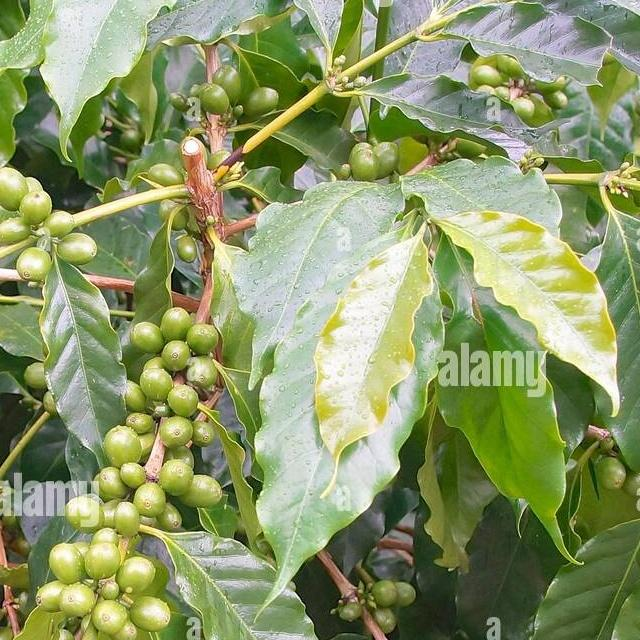xanh: (97, 420, 142, 467), (42, 543, 94, 579), (207, 56, 245, 104), (57, 231, 104, 269), (58, 578, 96, 620), (144, 158, 188, 194), (135, 594, 172, 633), (244, 80, 280, 120), (163, 385, 203, 420), (364, 572, 402, 607), (156, 409, 194, 444), (20, 182, 50, 226), (161, 304, 193, 345), (132, 369, 173, 400), (192, 316, 222, 357), (161, 340, 196, 375), (189, 476, 225, 510), (21, 250, 55, 286), (130, 323, 166, 356), (2, 168, 30, 210), (126, 556, 156, 595), (91, 468, 127, 500), (347, 149, 379, 185), (135, 483, 169, 516), (154, 200, 189, 232), (374, 136, 399, 180), (90, 545, 122, 579), (164, 460, 194, 496), (96, 601, 128, 634), (167, 233, 201, 264), (31, 581, 70, 608), (114, 498, 142, 533), (191, 355, 221, 387), (22, 356, 51, 389), (369, 606, 400, 636), (71, 498, 102, 528), (2, 218, 31, 248), (159, 498, 185, 531), (336, 599, 366, 627), (198, 91, 231, 115), (393, 576, 421, 604), (90, 524, 122, 548), (37, 389, 62, 419), (499, 53, 527, 79), (546, 86, 572, 112), (514, 92, 537, 121), (122, 464, 150, 486), (46, 216, 74, 238), (475, 67, 501, 89), (130, 412, 153, 434), (336, 156, 354, 184), (100, 580, 125, 600)
